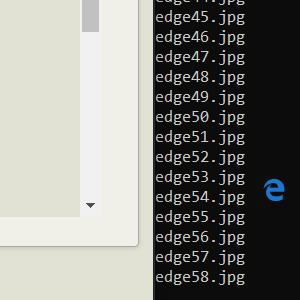edge: (263, 179, 285, 202)
